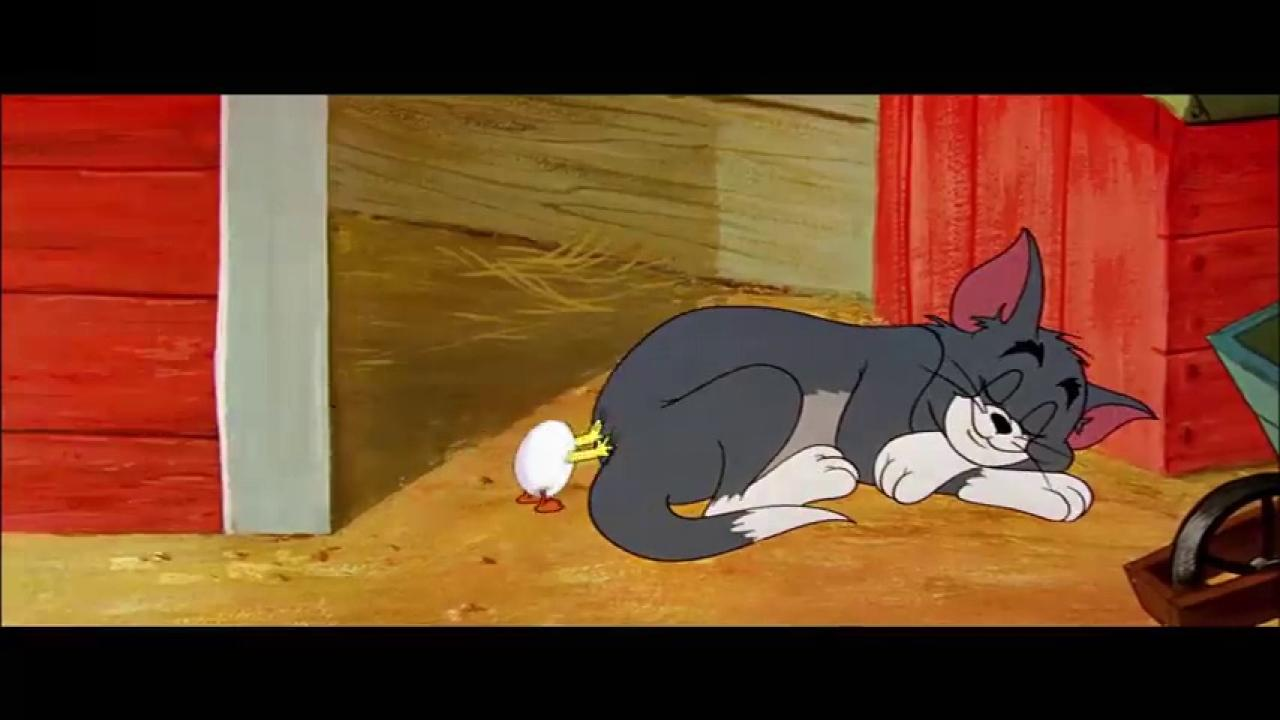Tom: (585, 224, 1160, 563)
